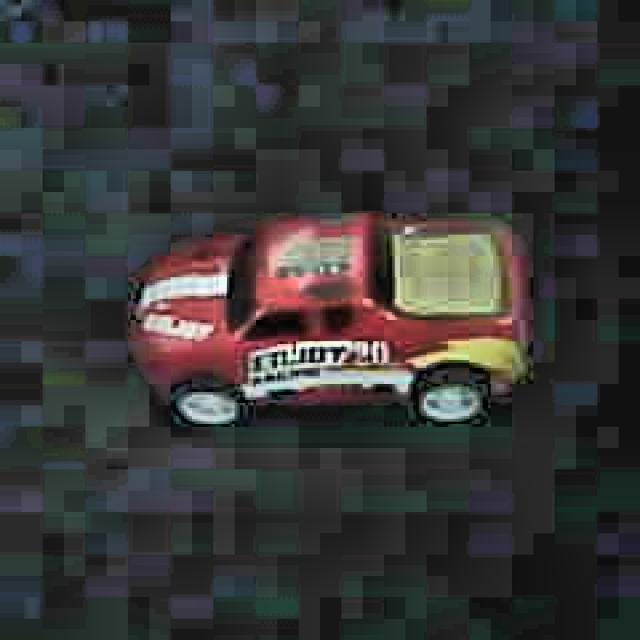car: (127, 200, 532, 440)
